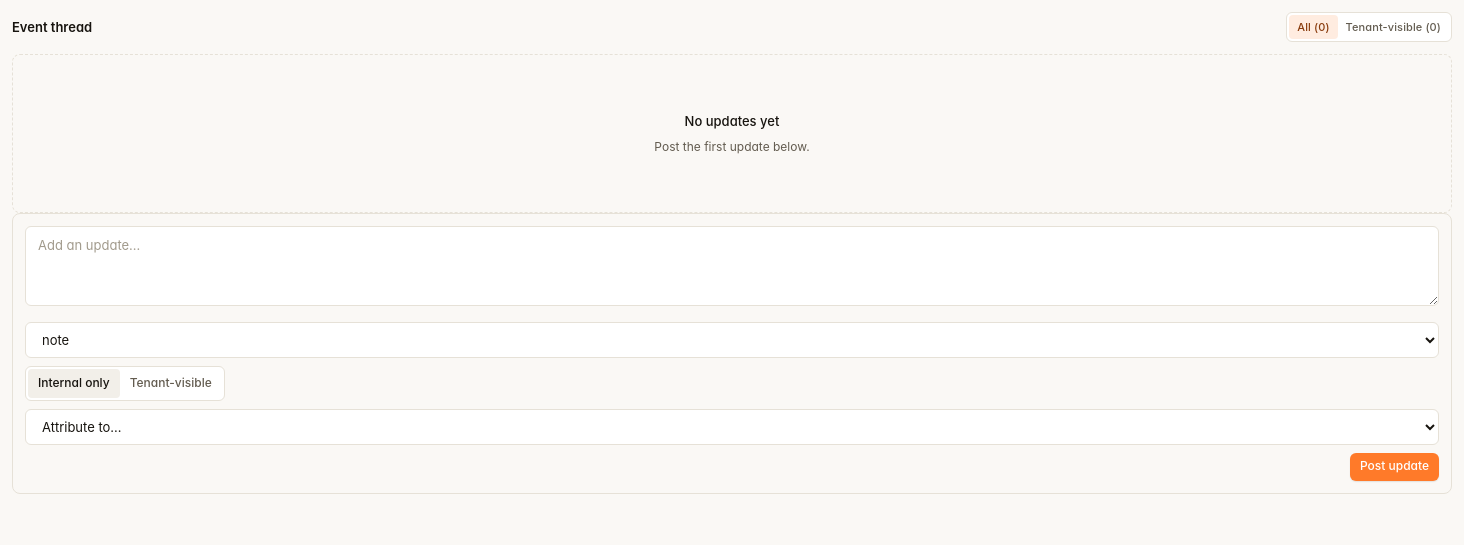
EventThread › refuses to post an empty update
Click the button "Post update".
click(1394, 467)  # box 1350,453 -> 1439,481
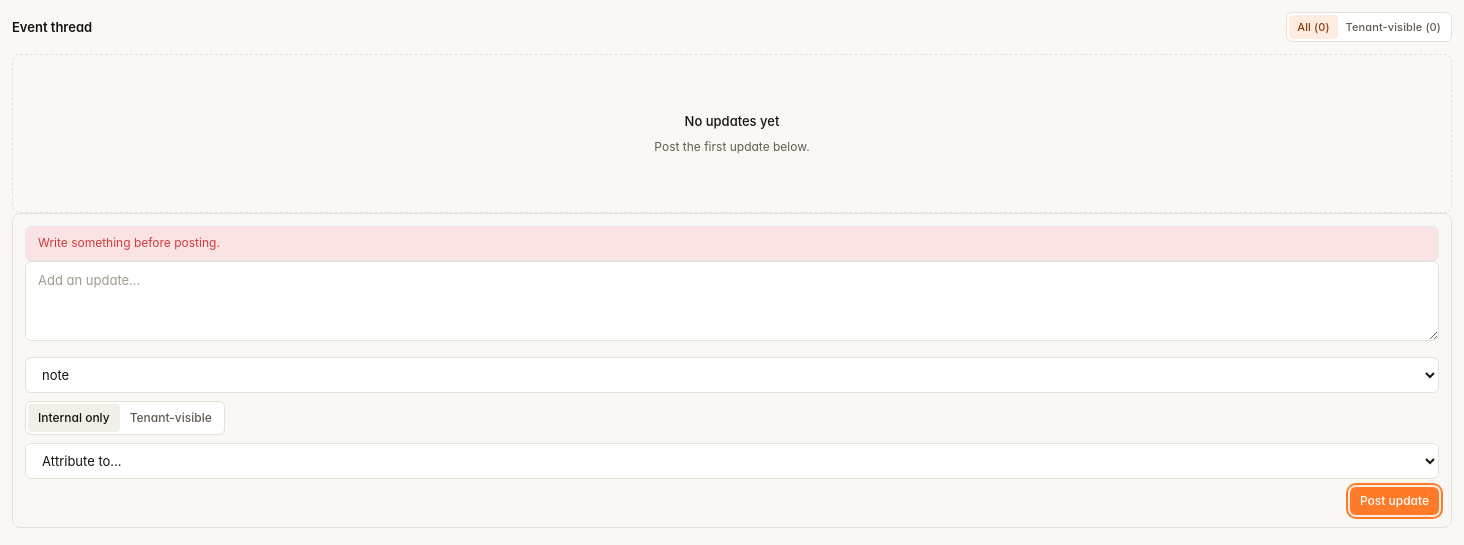
expect the message "Write something before posting." is shown: met, box 25,226 -> 1439,261
